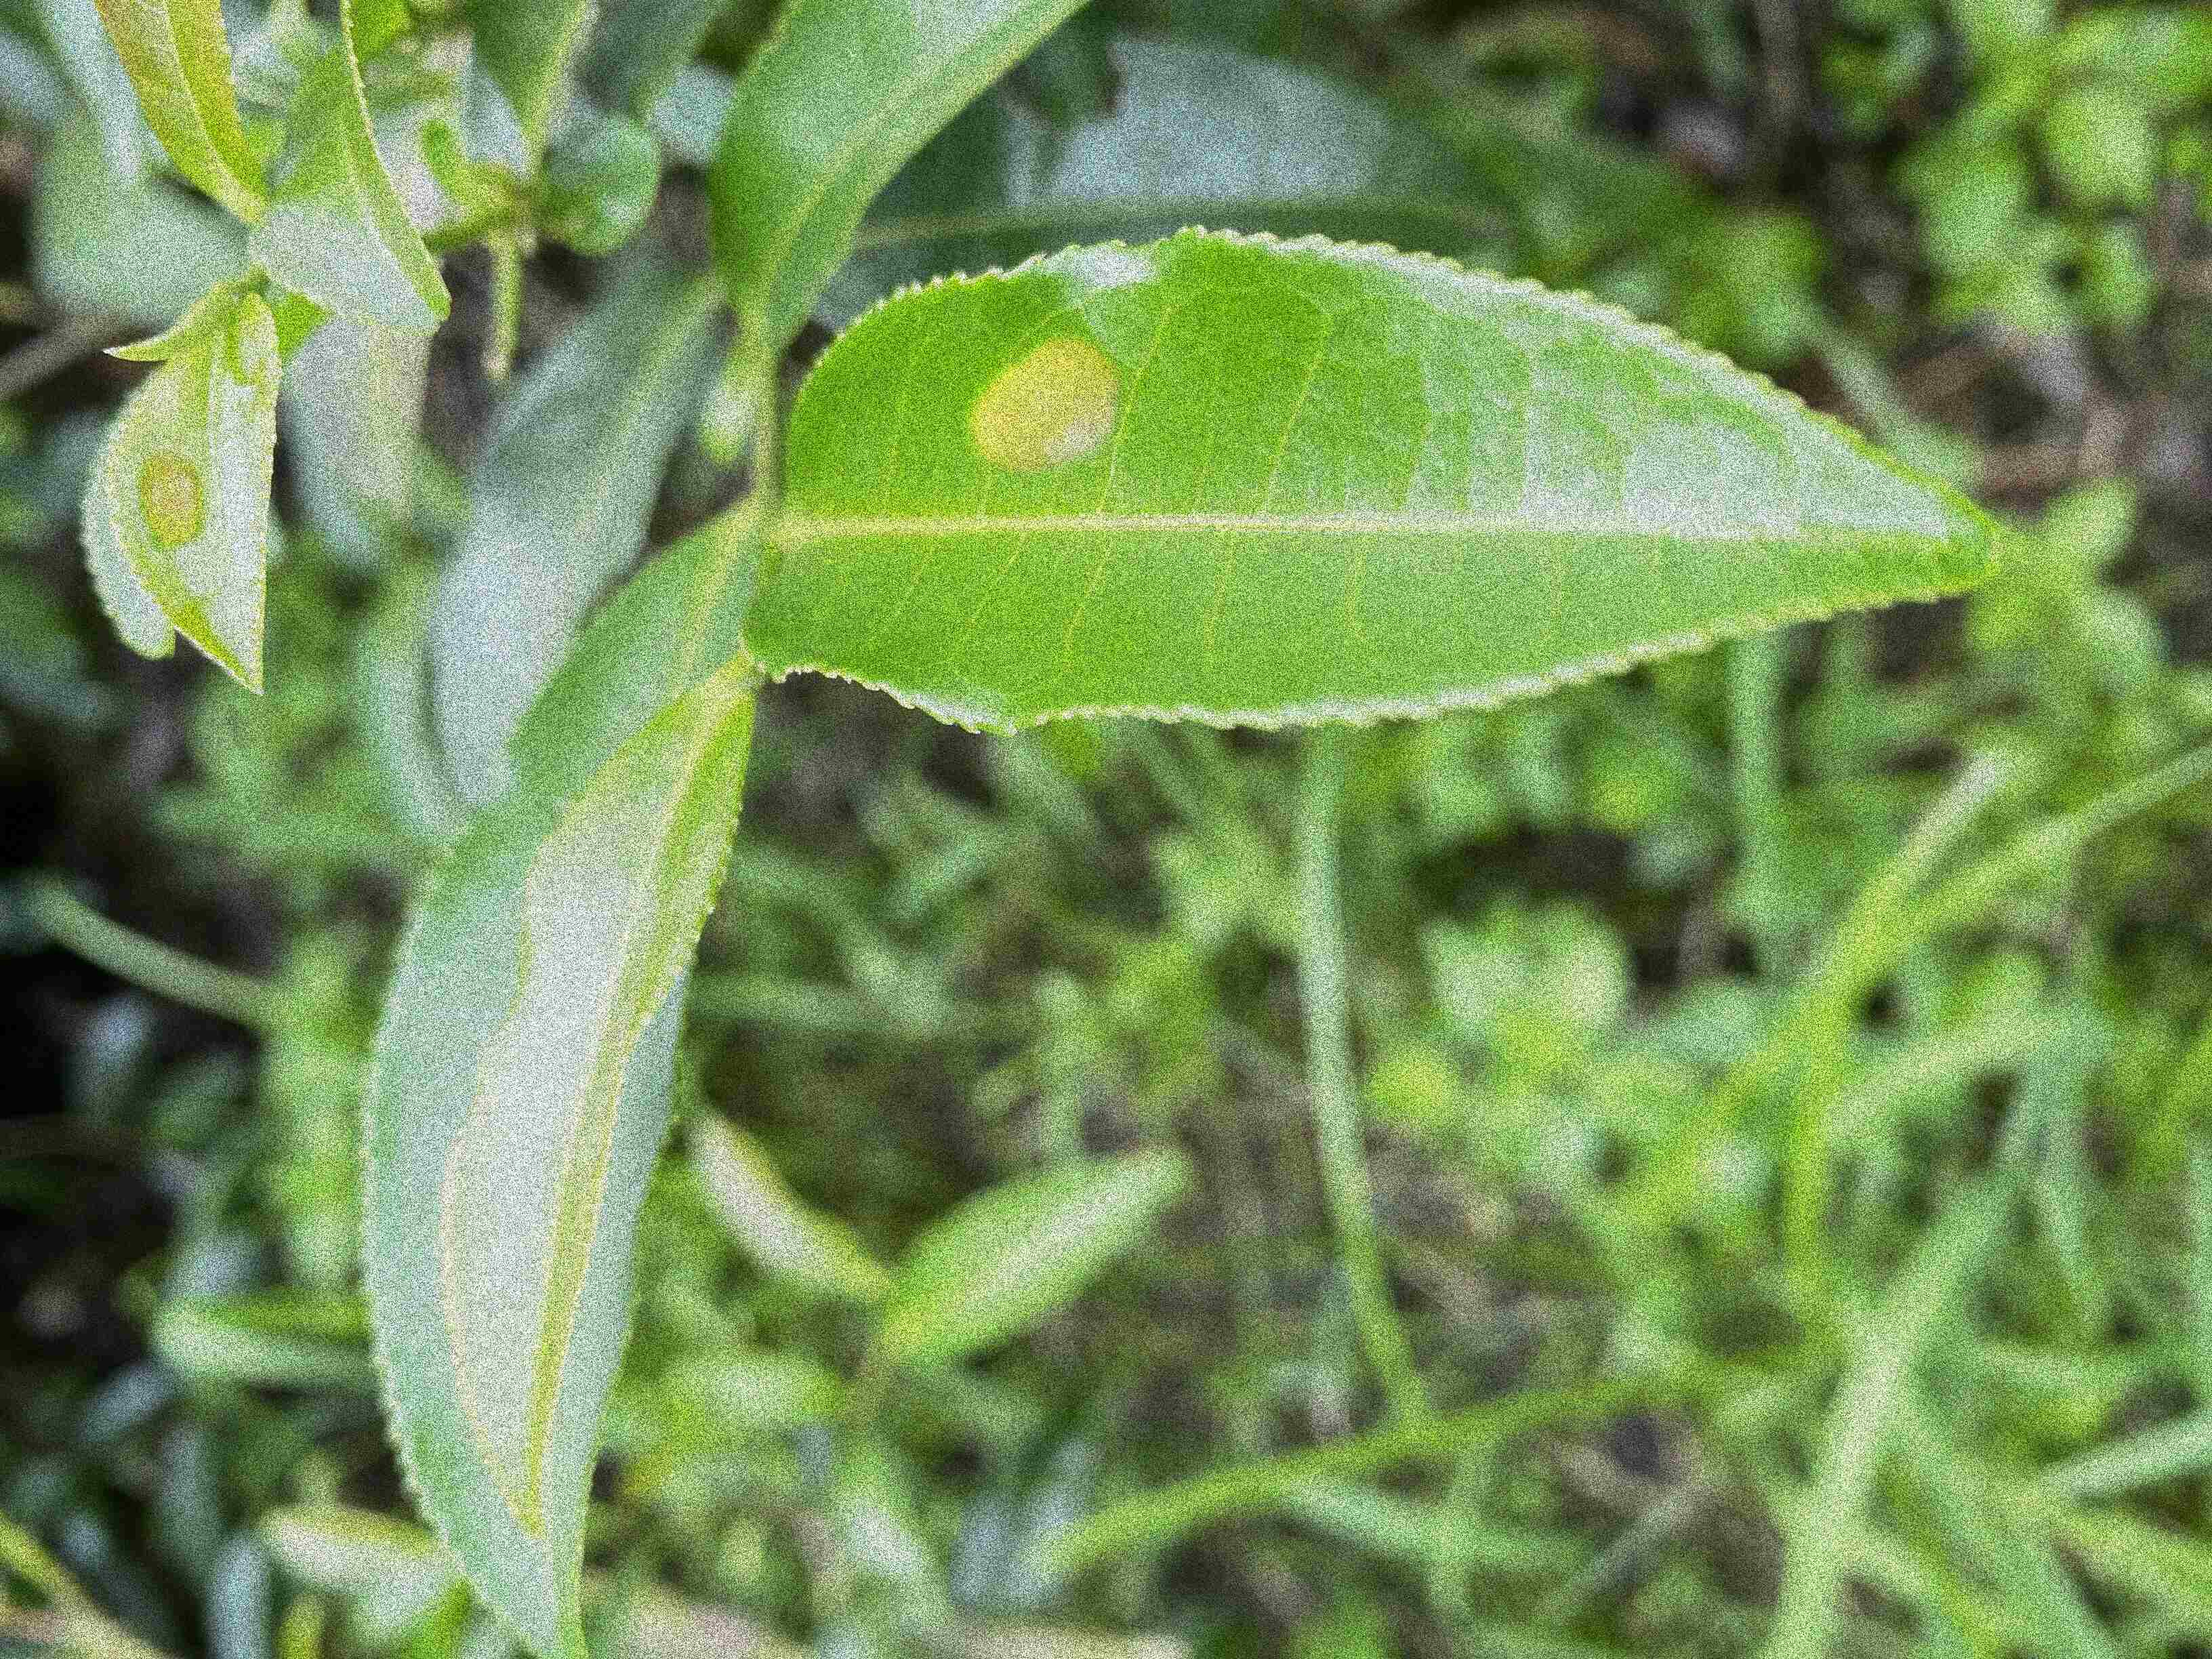chabing_low: (744, 220, 2010, 742), (101, 295, 286, 692)
healthy: (355, 511, 777, 1657), (441, 667, 759, 1535), (249, 3, 453, 336)
tanju_low: (96, 3, 265, 227)
